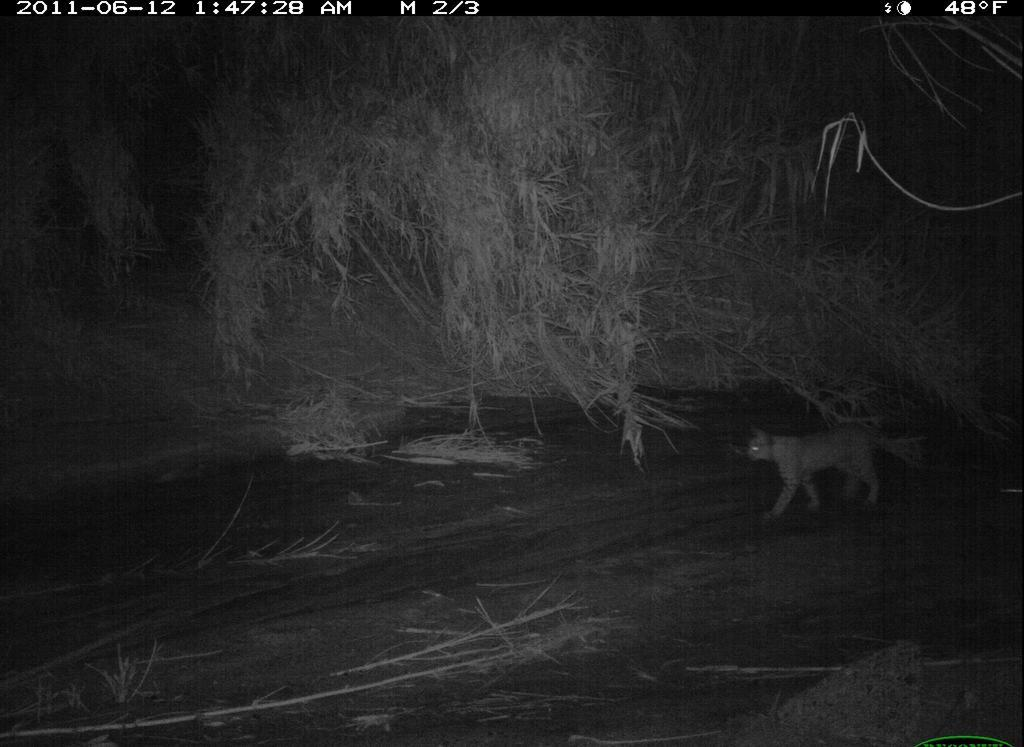bobcat: (738, 415, 903, 524)
